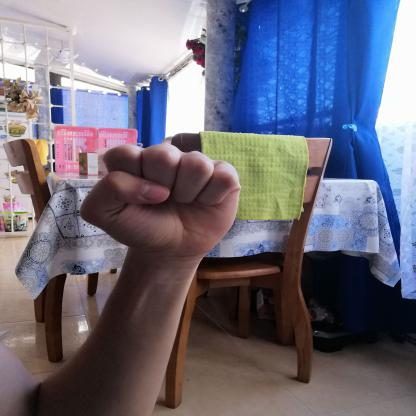SAD: (66, 130, 260, 268)
